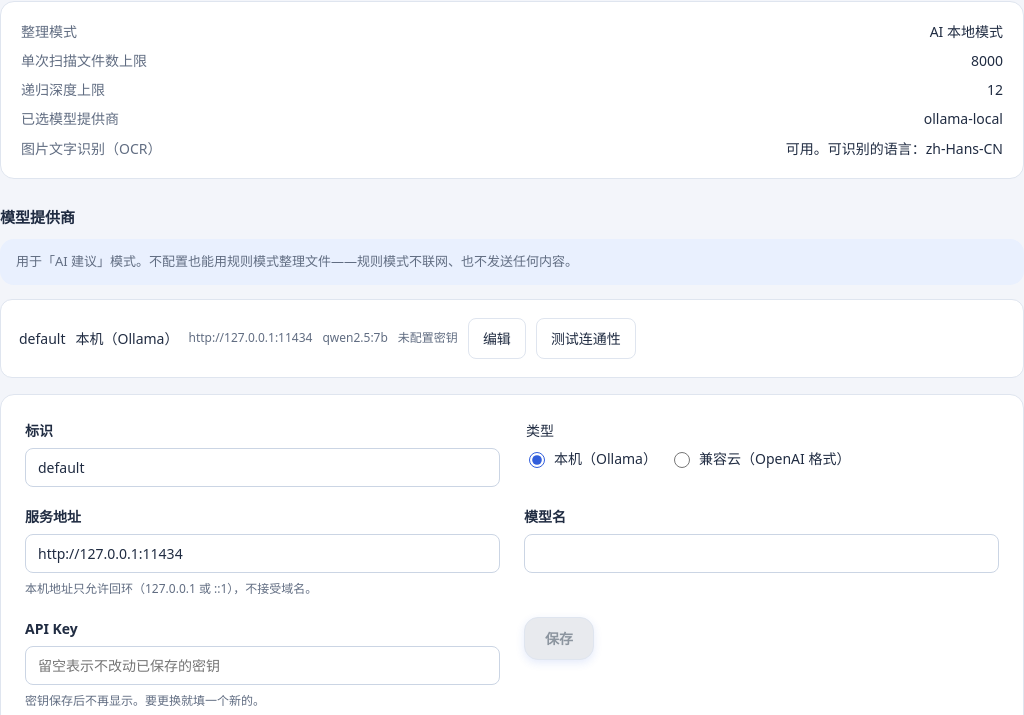
Scenario: 设置页 › 测试失败时把原因显示出来，而不是只说「测试失败」
Step 1. Click the button "测试连通性" → (586, 338), box 536,318 -> 636,359
(page scrolled)
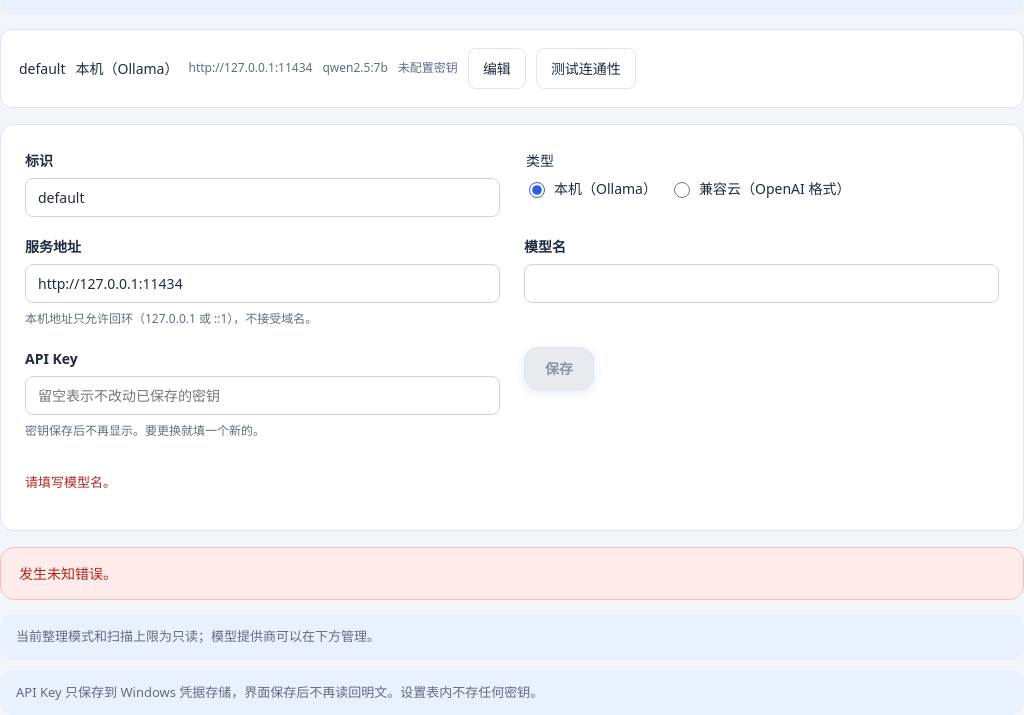
Check: the message "发生未知错误。" is shown, box 0,547 -> 1023,600
